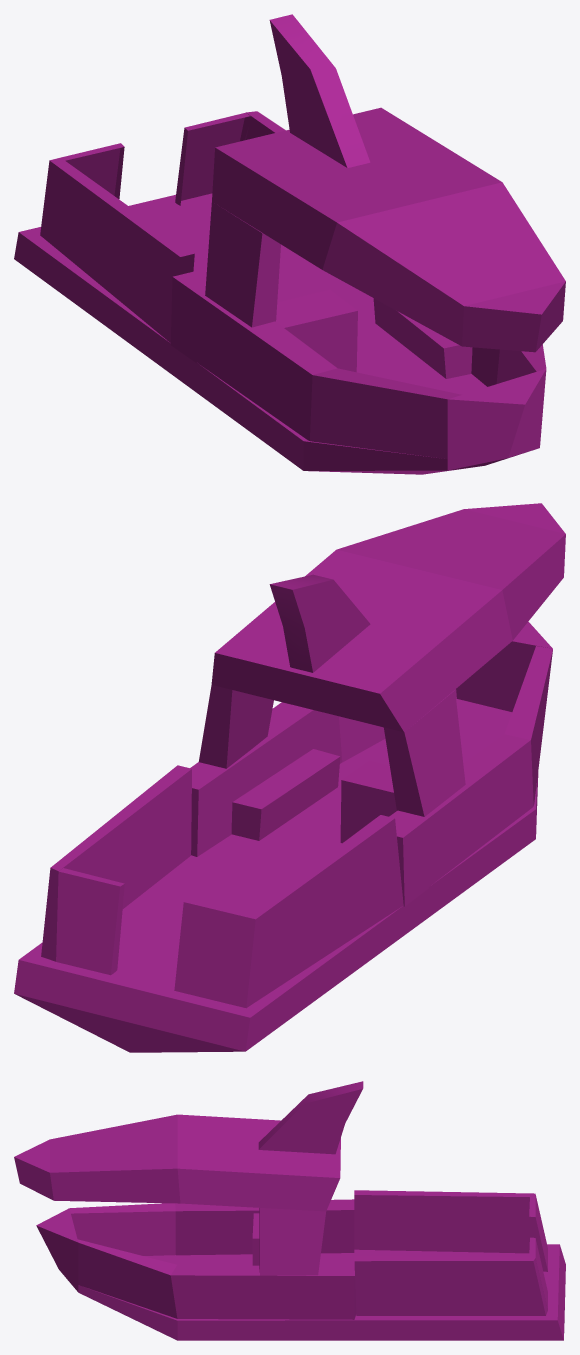
File: SM_Veh_Party_Boat_01_Collision.fbx
The picture shows the model from 3 angles, top to bottom: view 1: azimuth 30°, elevation 25°; view 2: azimuth 150°, elevation 25°; view 3: azimuth 270°, elevation 25°; orthographic projection. The views are drawn at different scales.
Parts seen in each view (by area): view 1: SM_Veh_Party_Boat_01_Collision; view 2: SM_Veh_Party_Boat_01_Collision; view 3: SM_Veh_Party_Boat_01_Collision.
Boxes of the visible parts, x1,y1,x2,y2 form: SM_Veh_Party_Boat_01_Collision: (14, 14, 565, 474); SM_Veh_Party_Boat_01_Collision: (14, 503, 565, 1052); SM_Veh_Party_Boat_01_Collision: (14, 1081, 565, 1340).
Size of the model in its own units: 357 by 518 by 1089.
